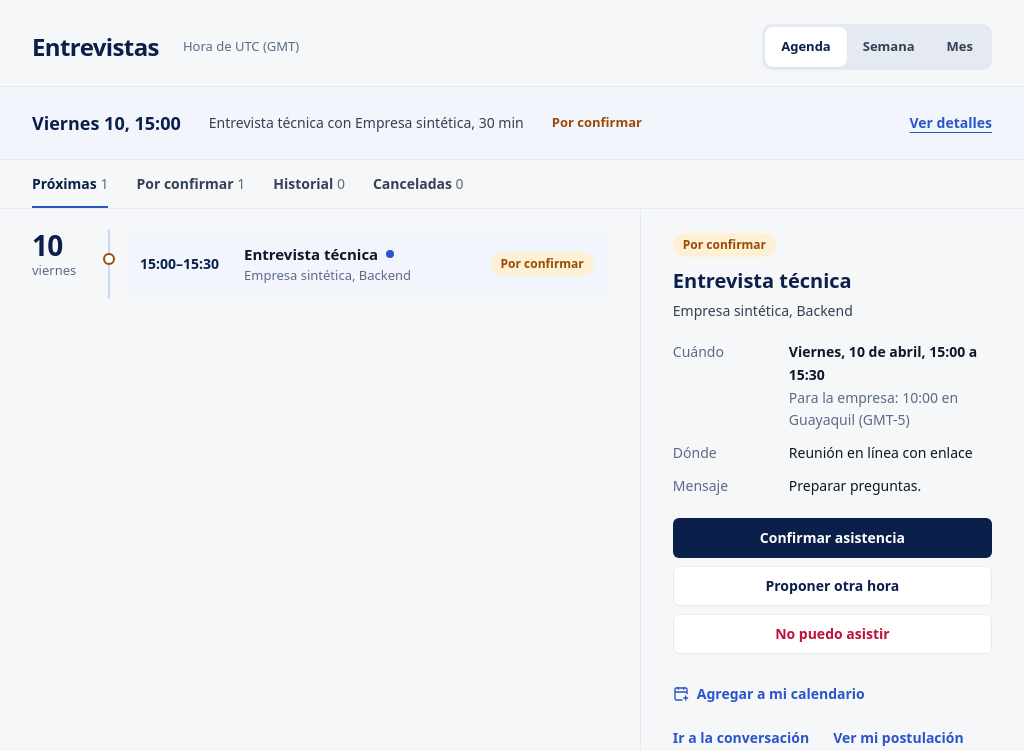
Test: entrevistas del candidato › descarga el archivo .ics para agregar la cita a cualquier calendario
Step 1. Click the button "Agregar a mi calendario" → (769, 694), box [673,674,865,714]
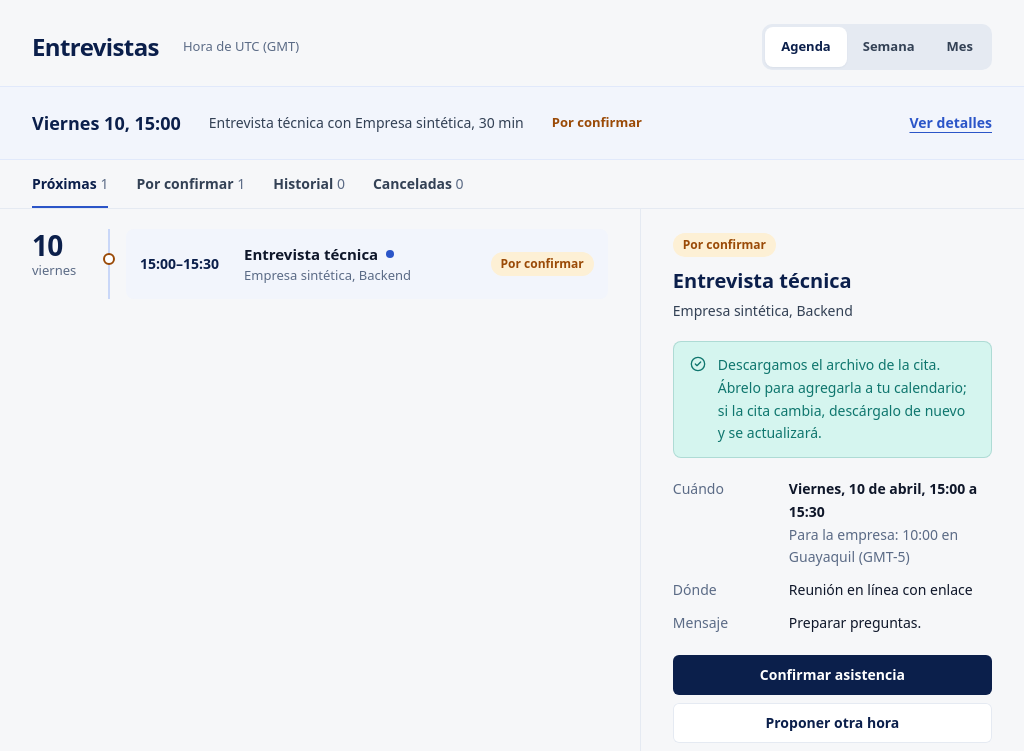
Check: the text "Descargamos el archivo de la cita" is shown, box [718,355,967,442]
